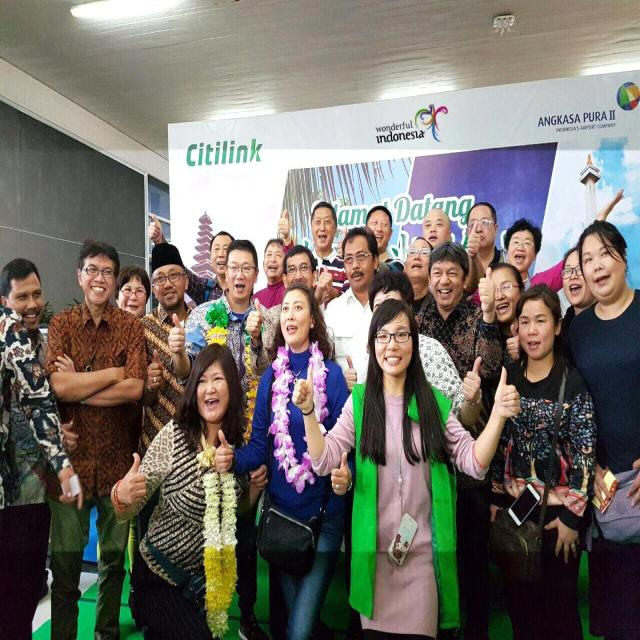body: (294, 297, 520, 639), (215, 280, 356, 640), (109, 342, 273, 639), (43, 233, 146, 640), (488, 283, 596, 639), (415, 242, 503, 637), (567, 219, 640, 639), (0, 306, 82, 640), (342, 268, 484, 428), (0, 257, 52, 639), (468, 189, 628, 309), (96, 264, 152, 574), (132, 242, 198, 471), (168, 240, 268, 383), (319, 230, 383, 394), (244, 243, 320, 379), (147, 209, 237, 306), (401, 224, 487, 317), (308, 200, 352, 311), (250, 206, 296, 310), (484, 260, 528, 363), (559, 241, 599, 339), (465, 200, 505, 278), (366, 205, 394, 262), (419, 207, 453, 253)
